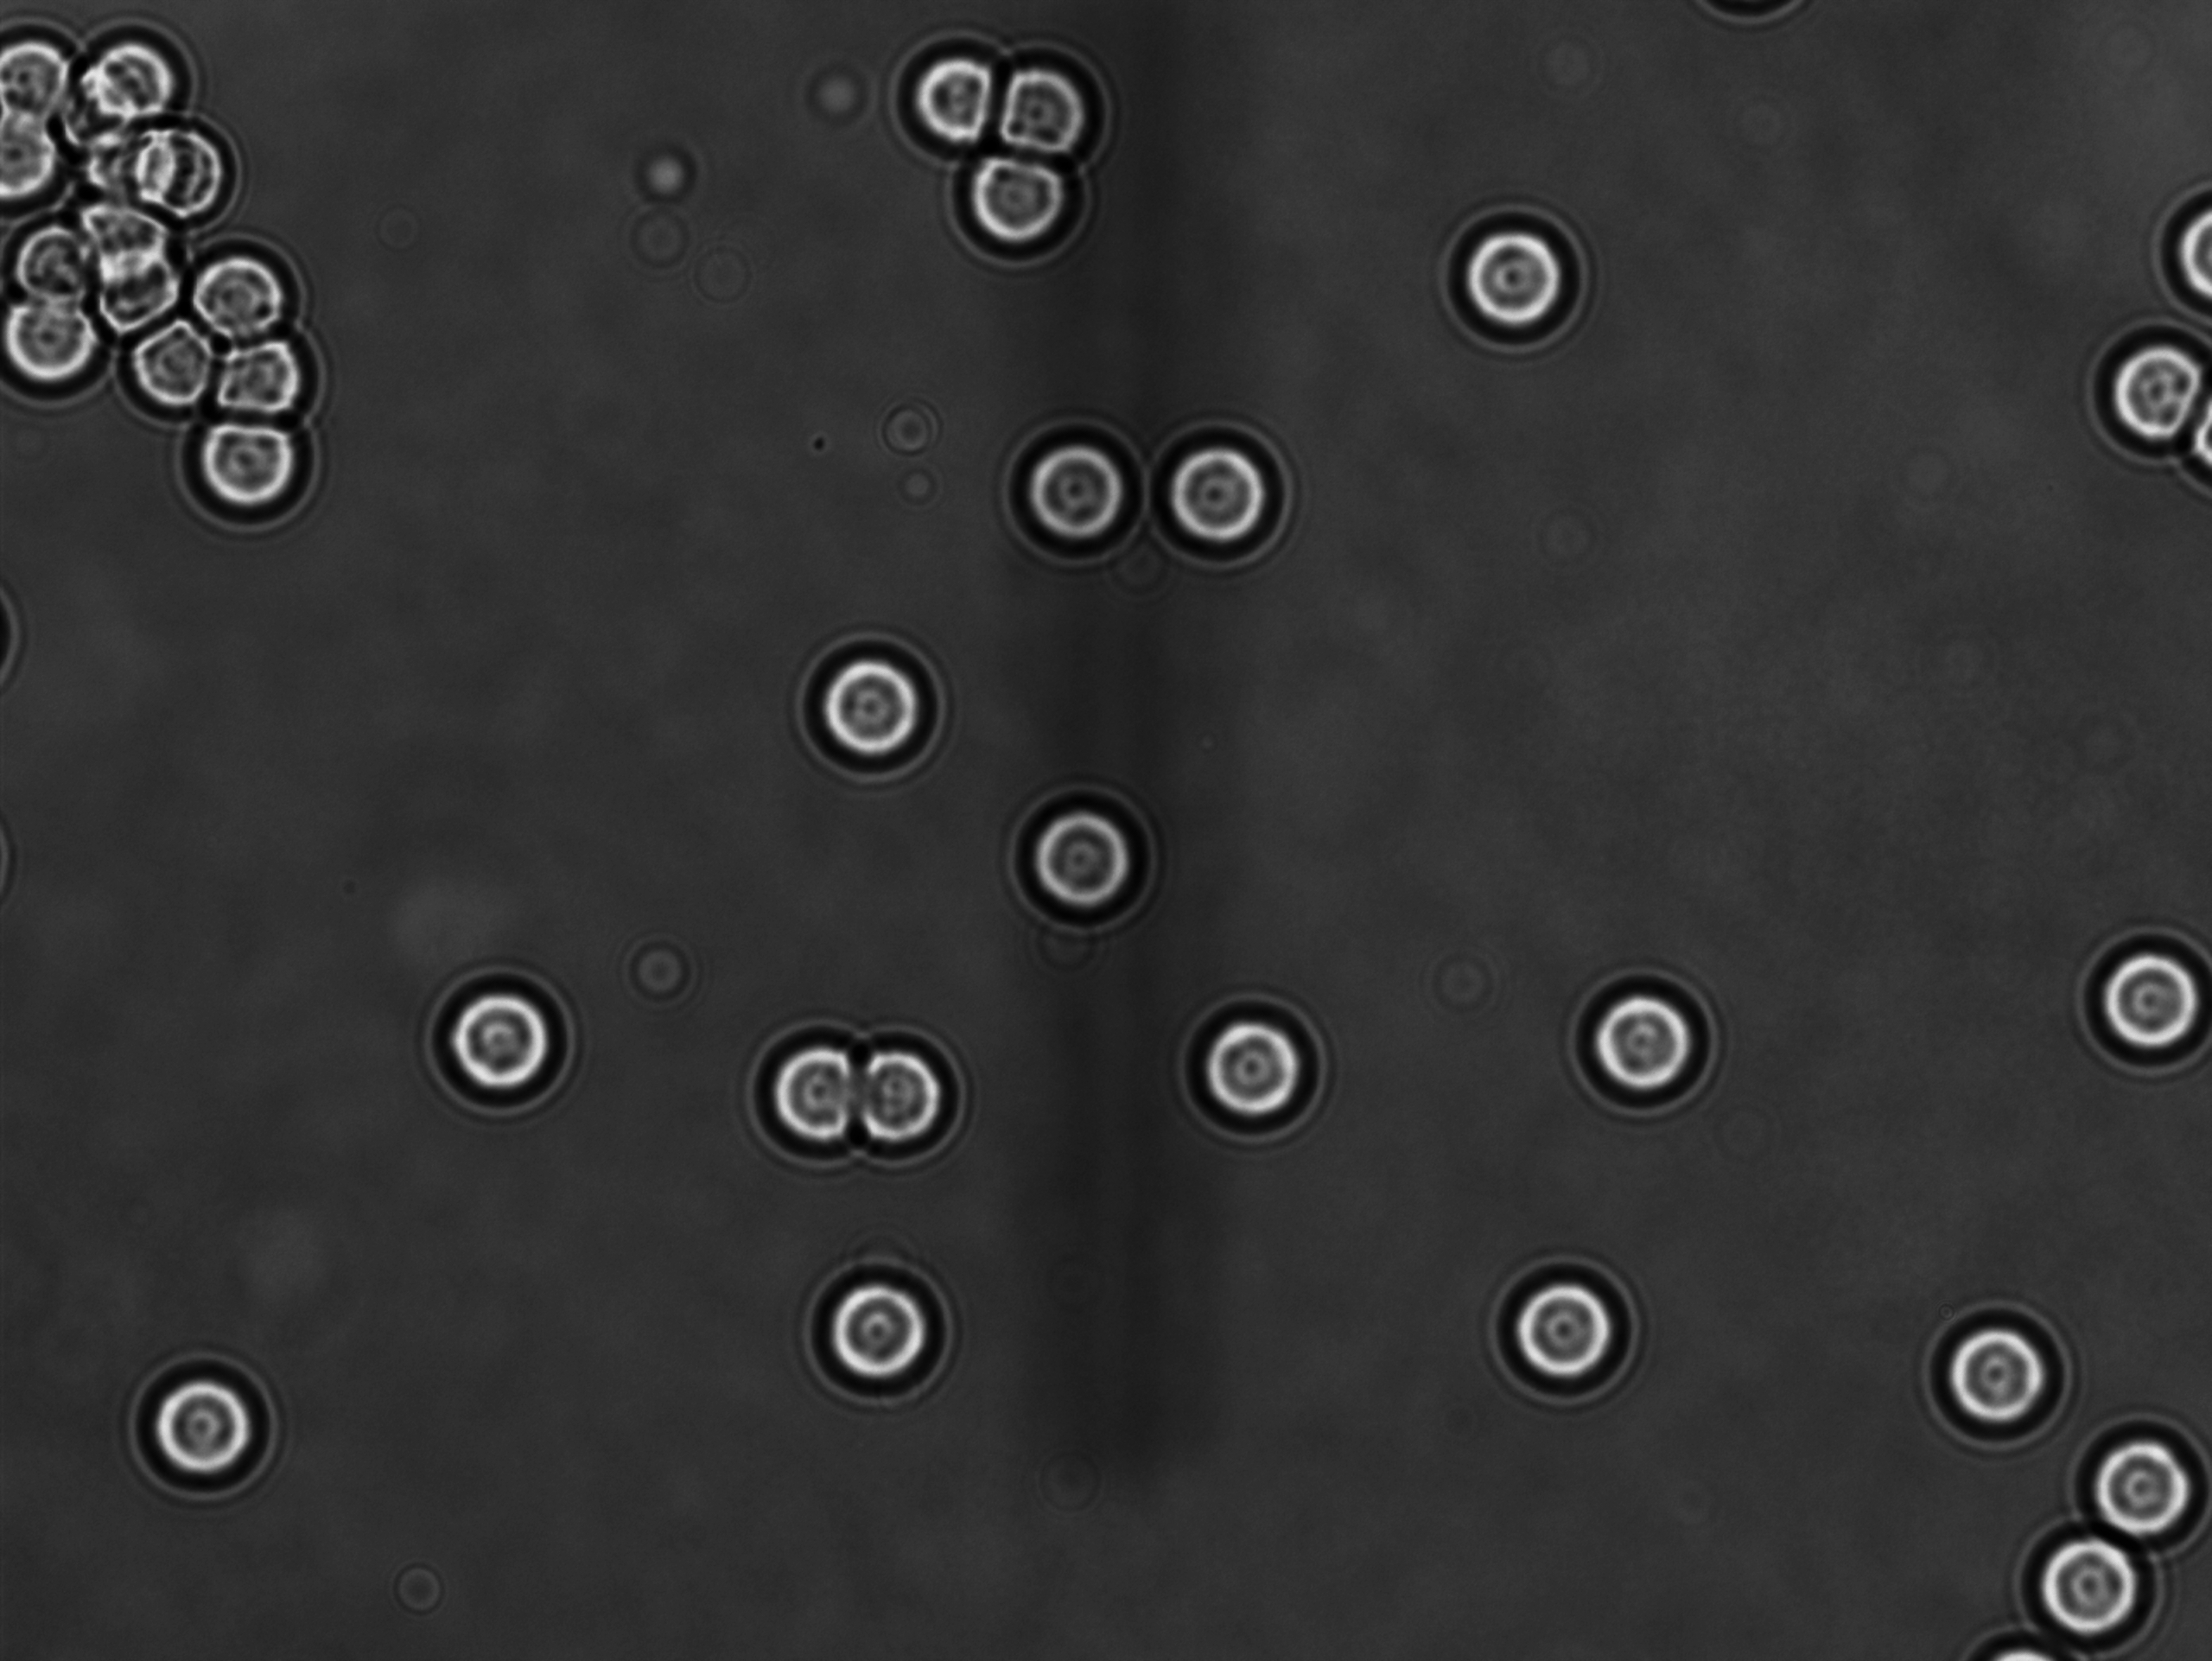depth:20: (771, 605, 963, 811), (780, 1227, 972, 1425), (1467, 1235, 1659, 1424), (1900, 1288, 2100, 1467), (1553, 947, 1738, 1138), (989, 764, 1176, 951), (410, 942, 600, 1124), (112, 1343, 300, 1523), (991, 386, 1167, 578), (1134, 389, 1303, 586), (1160, 988, 1347, 1165), (1422, 194, 1610, 370), (2039, 907, 2212, 1094), (1992, 1488, 2177, 1661), (2060, 298, 2212, 504), (832, 996, 1001, 1178), (736, 1003, 902, 1186), (870, 19, 1033, 192), (159, 386, 335, 541), (972, 30, 1144, 187), (932, 124, 1096, 288), (2060, 1391, 2212, 1555), (169, 204, 331, 356), (106, 119, 267, 265), (70, 5, 225, 155), (192, 312, 351, 454), (122, 298, 263, 440), (2118, 157, 2212, 335)
